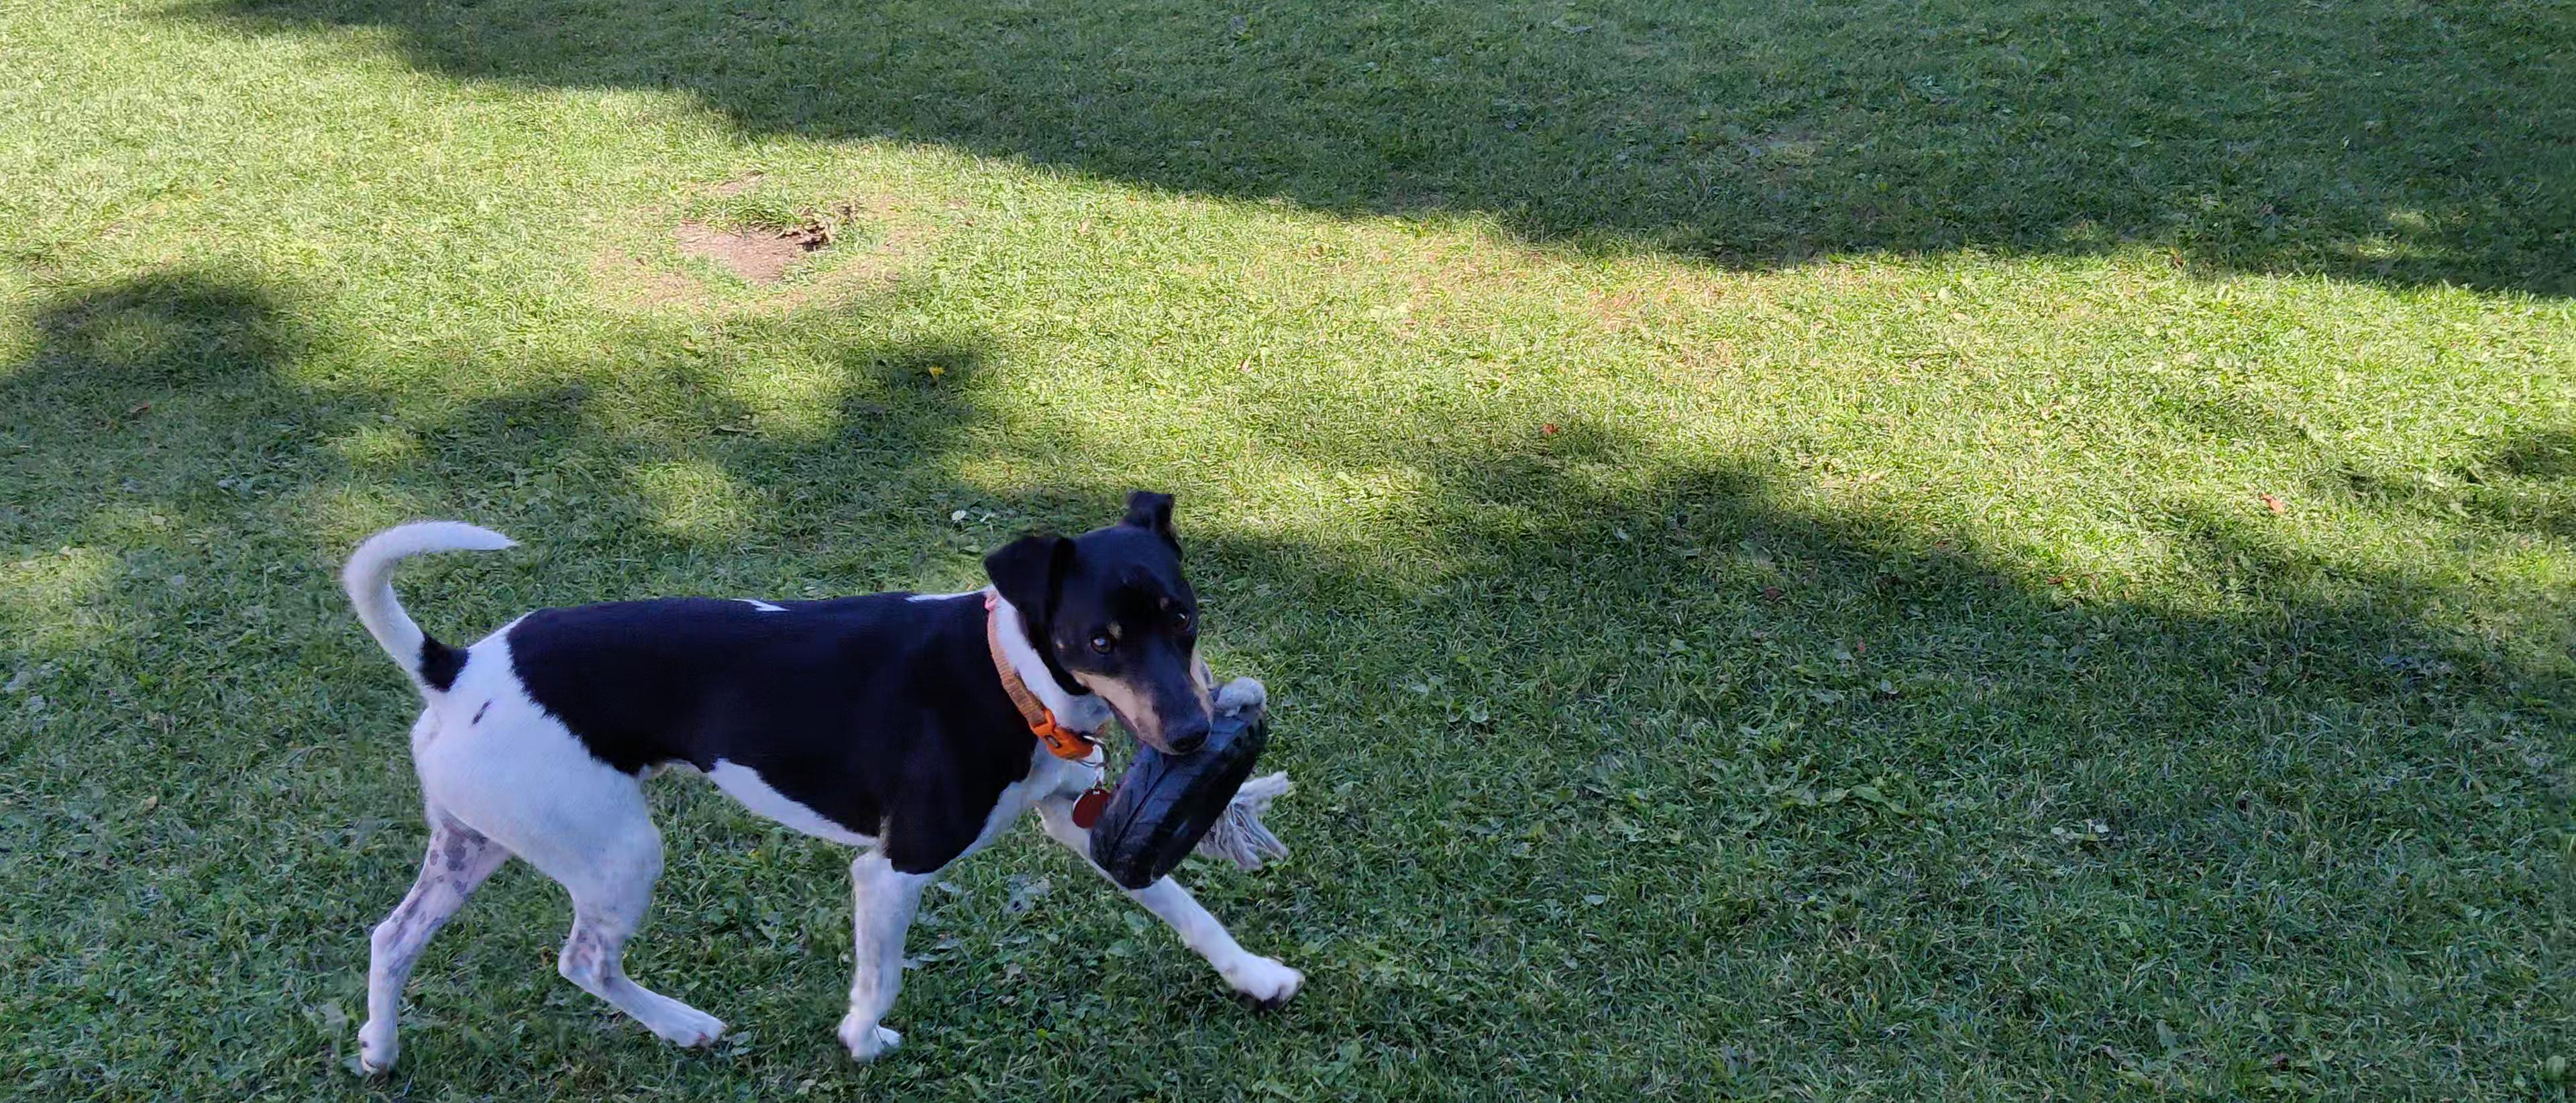Dog: (329, 450, 1313, 1083)
